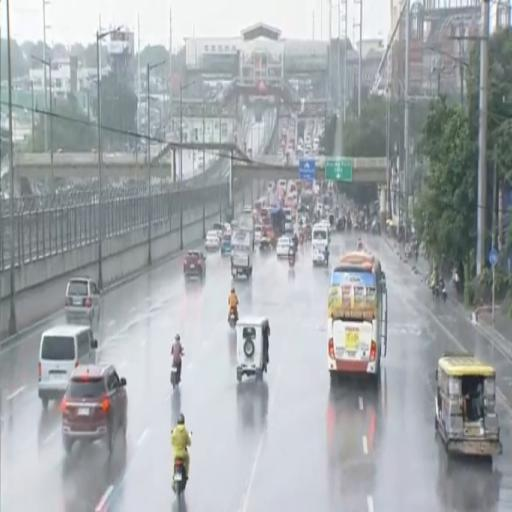bus: (328, 252, 387, 381)
car: (60, 364, 127, 454), (38, 325, 97, 409), (65, 278, 100, 325), (183, 251, 205, 279), (277, 236, 291, 258), (205, 231, 220, 250), (221, 233, 232, 254), (211, 222, 224, 238), (255, 226, 261, 244)
jeepney: (435, 354, 502, 455)
motorcycle: (173, 458, 187, 498), (171, 365, 180, 389), (288, 248, 296, 268), (228, 309, 236, 328), (438, 282, 446, 301), (432, 284, 439, 299), (442, 286, 446, 302)
truck: (231, 227, 253, 278)
